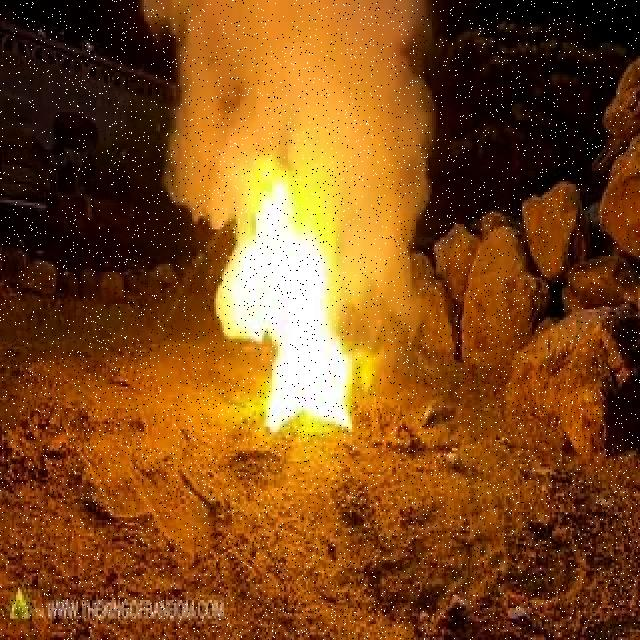fire: (217, 175, 357, 434)
smoke: (177, 11, 446, 152)
